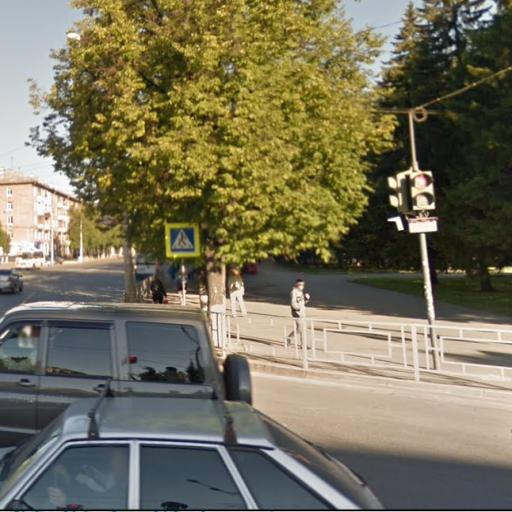traffic_sign: (165, 221, 203, 262)
